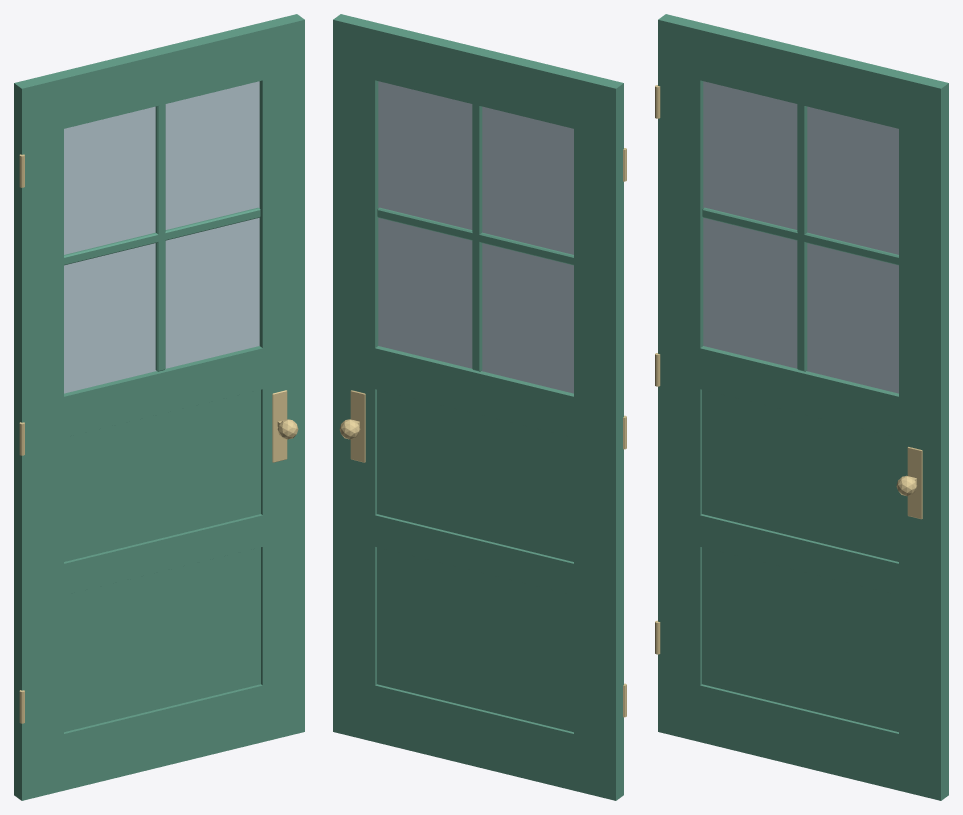
Rendered from door_back.glb.
3 renders of one model, left to right at view 1: azimuth 30°, elevation 25°; view 2: azimuth 150°, elevation 25°; view 3: azimuth 330°, elevation 25°, orthographic.
Parts seen in each view (by area): view 1: door_back_door, door_back_glass, door_back_brass; view 2: door_back_door, door_back_glass, door_back_brass; view 3: door_back_door, door_back_glass, door_back_brass.
Boxes of the visible parts, x1,y1,x2,y2 form: door_back_door: (14,14,304,800); door_back_glass: (64,81,259,393); door_back_brass: (19,154,298,723); door_back_door: (333,14,623,800); door_back_glass: (378,81,573,393); door_back_brass: (339,148,626,717); door_back_door: (658,14,948,800); door_back_glass: (703,81,898,393); door_back_brass: (655,85,922,654).
Bounding box in the file's own units: 0.948 × 2.26 × 0.205.
